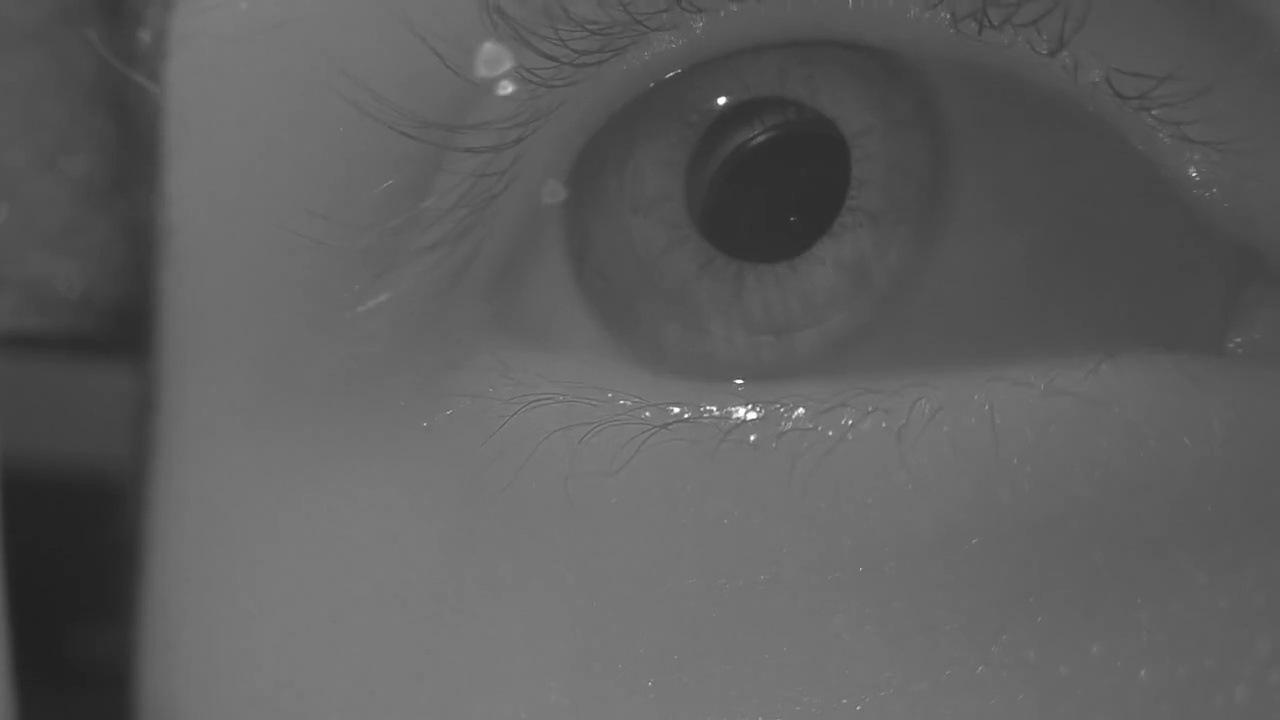pupil: (687, 97, 852, 265)
